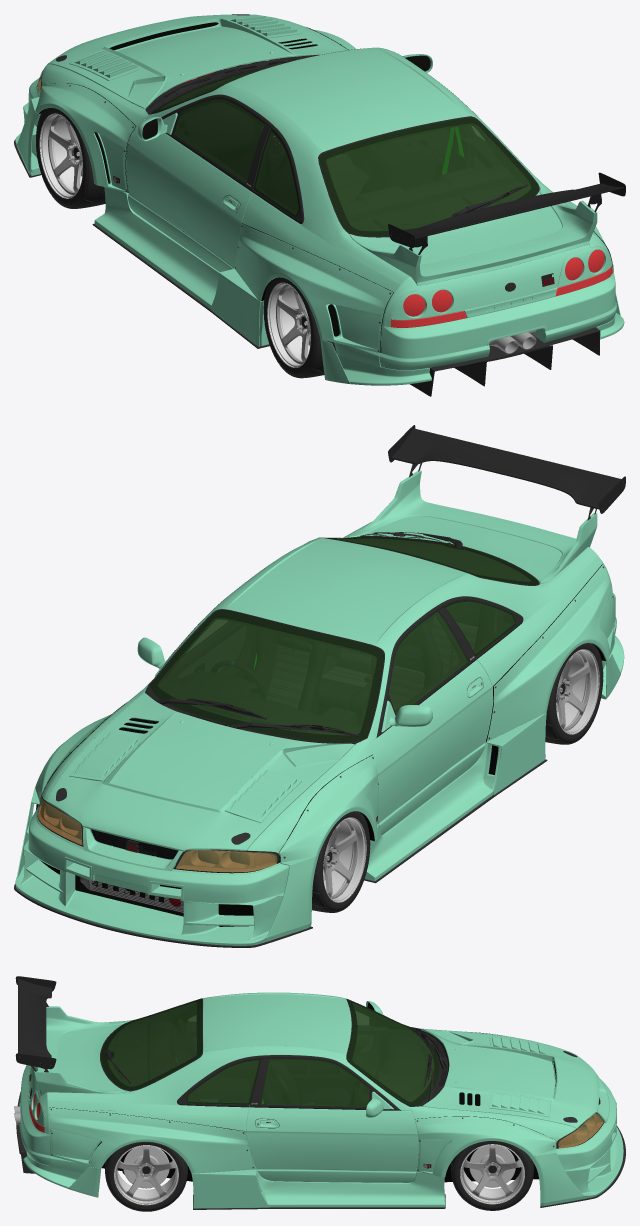
Rendered from NISSAN GTR.glb.
The picture shows the model from 3 angles, top to bottom: view 1: azimuth 30°, elevation 25°; view 2: azimuth 150°, elevation 25°; view 3: azimuth 270°, elevation 25°; orthographic projection. The views are drawn at different scales.
Parts seen in each view (by area): view 1: Object_28, Object_19, Object_25, Object_23, Object_67, Object_58, Object_65, Object_14, Object_54, Object_61, Object_50, Object_46 (+1 smaller); view 2: Object_28, Object_19, Object_25, Object_23, Object_58, Object_27, Object_67, Object_14.001, Object_20, Object_61, Object_54, Object_50 (+4 smaller); view 3: Object_28, Object_19, Object_25, Object_23, Object_58, Object_54, Object_61, Object_67, Object_44, Object_65, Object_12, Object_14.001 (+3 smaller).
Boxes of the visible parts, left/top/right/bottom form: Object_28: left=15, top=14, right=624, bottom=385; Object_19: left=151, top=64, right=537, bottom=235; Object_25: left=161, top=72, right=530, bottom=230; Object_23: left=40, top=48, right=541, bottom=291; Object_67: left=39, top=113, right=310, bottom=367; Object_58: left=388, top=172, right=625, bottom=247; Object_65: left=14, top=14, right=600, bottom=396; Object_14: left=390, top=249, right=612, bottom=327; Object_54: left=36, top=108, right=316, bottom=376; Object_61: left=48, top=115, right=310, bottom=364; Object_50: left=39, top=22, right=613, bottom=352; Object_46: left=36, top=110, right=336, bottom=378; Object_28: left=15, top=470, right=624, bottom=945; Object_19: left=150, top=537, right=537, bottom=742; Object_25: left=158, top=538, right=530, bottom=734; Object_23: left=40, top=532, right=539, bottom=912; Object_58: left=388, top=425, right=625, bottom=513; Object_27: left=178, top=617, right=477, bottom=709; Object_67: left=323, top=649, right=599, bottom=902; Object_14.001: left=37, top=797, right=277, bottom=872; Object_20: left=38, top=798, right=277, bottom=872; Object_61: left=323, top=651, right=591, bottom=898; Object_54: left=317, top=643, right=602, bottom=911; Object_50: left=40, top=564, right=605, bottom=926; Object_28: left=19, top=992, right=623, bottom=1208; Object_19: left=101, top=999, right=439, bottom=1106; Object_25: left=107, top=1002, right=433, bottom=1128; Object_23: left=30, top=998, right=603, bottom=1148; Object_58: left=15, top=976, right=56, bottom=1069; Object_54: left=107, top=1141, right=531, bottom=1211; Object_61: left=115, top=1145, right=523, bottom=1201; Object_67: left=114, top=1144, right=524, bottom=1205; Object_44: left=123, top=1145, right=515, bottom=1188; Object_65: left=16, top=1051, right=625, bottom=1209; Object_12: left=102, top=1001, right=604, bottom=1182; Object_14.001: left=558, top=1075, right=603, bottom=1148.
Size of the model in its own units: 2.01 by 1.27 by 4.81.
37 materials, 10 textured.
